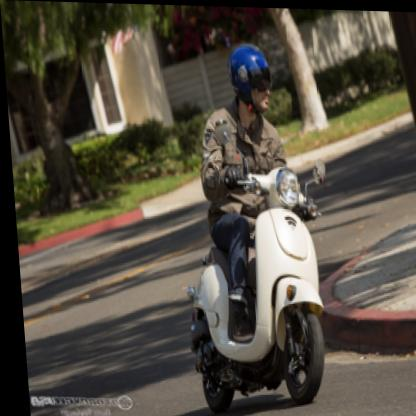With Helmet: (222, 41, 279, 114)
